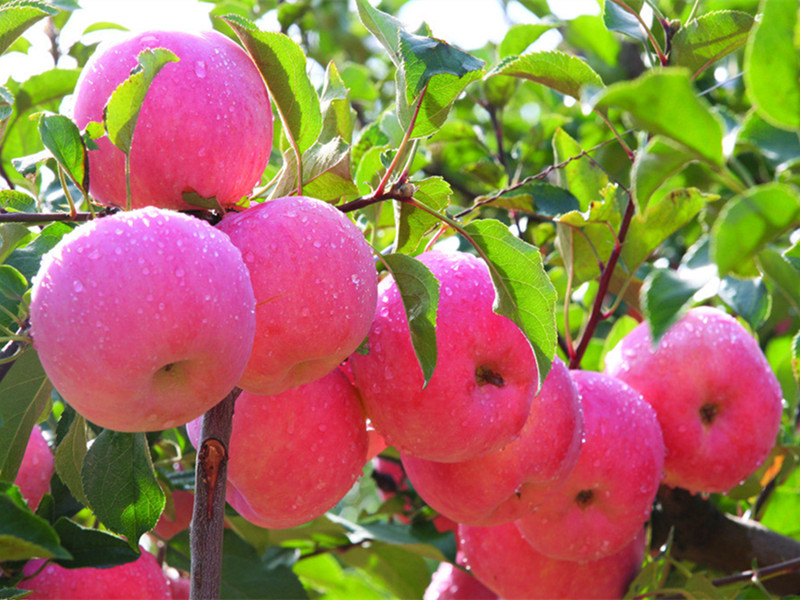apple: (333, 239, 574, 463), (35, 217, 253, 453), (183, 177, 382, 411), (70, 25, 290, 226), (605, 298, 787, 513), (443, 425, 655, 598), (191, 350, 373, 543), (498, 370, 675, 567)
